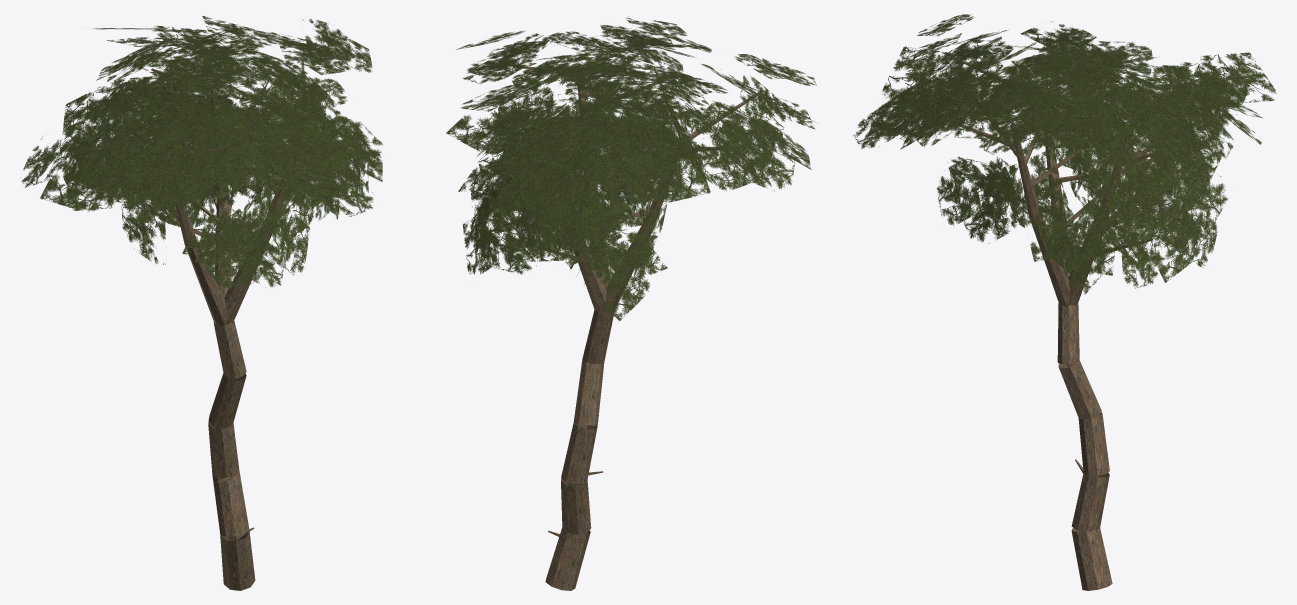
File: pine_a.glb
3 renders of one model, left to right at view 1: azimuth 30°, elevation 25°; view 2: azimuth 150°, elevation 25°; view 3: azimuth 270°, elevation 25°, orthographic. The views are drawn at different scales.
Visible parts, largest first — view 1: cards, trunk; view 2: cards, trunk; view 3: cards, trunk.
Part boxes in pixels (bbox=[...]): cards: bbox=[20, 16, 382, 288]; trunk: bbox=[116, 57, 306, 590]; cards: bbox=[446, 16, 816, 320]; trunk: bbox=[511, 51, 763, 590]; cards: bbox=[853, 14, 1276, 294]; trunk: bbox=[943, 56, 1216, 590].
Size of the model in its own units: 8.41 by 11.94 by 8.9.
Materials: 2 (2 with a texture image).
